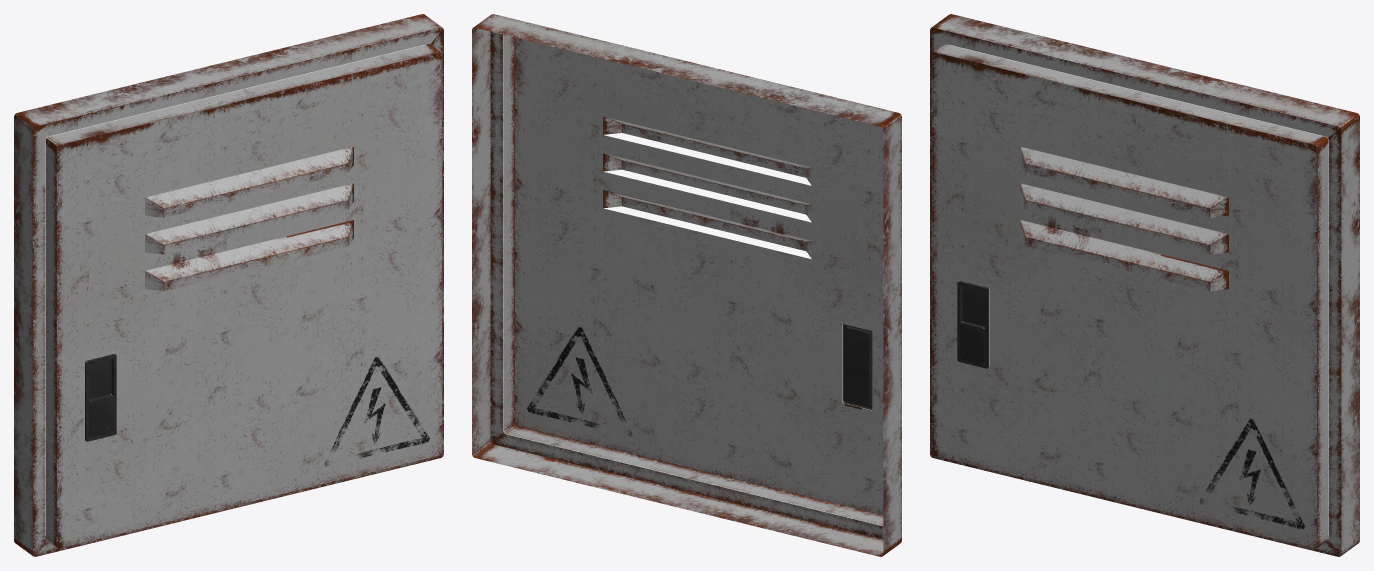
Rendered from electrical_panel_box.glb.
3 renders of one model, left to right at view 1: azimuth 30°, elevation 25°; view 2: azimuth 150°, elevation 25°; view 3: azimuth 330°, elevation 25°, orthographic.
Parts seen in each view (by area): view 1: Electric_Pannel_Cover_3, Electric_Panel_Frame_2, Electric_Panel_2_0, Electric_Panel_Button_1_1; view 2: Electric_Pannel_Cover_3, Electric_Panel_Frame_2, Electric_Panel_2_0, Electric_Panel_Button_1_1; view 3: Electric_Pannel_Cover_3, Electric_Panel_Frame_2, Electric_Panel_2_0, Electric_Panel_Button_1_1.
Boxes of the visible parts, x1,y1,x2,y2 form: Electric_Pannel_Cover_3: [45, 44, 442, 548]; Electric_Panel_Frame_2: [14, 14, 443, 556]; Electric_Panel_2_0: [84, 354, 116, 441]; Electric_Panel_Button_1_1: [89, 394, 113, 438]; Electric_Pannel_Cover_3: [503, 35, 883, 525]; Electric_Panel_Frame_2: [472, 14, 901, 556]; Electric_Panel_2_0: [842, 324, 872, 409]; Electric_Panel_Button_1_1: [845, 364, 871, 406]; Electric_Pannel_Cover_3: [931, 44, 1328, 548]; Electric_Panel_Frame_2: [930, 14, 1359, 556]; Electric_Panel_2_0: [957, 280, 989, 368]; Electric_Panel_Button_1_1: [960, 321, 984, 364].
Bounding box in the file's own units: 0.303 × 0.303 × 0.0467.
Materials: 1 (1 with a texture image).
